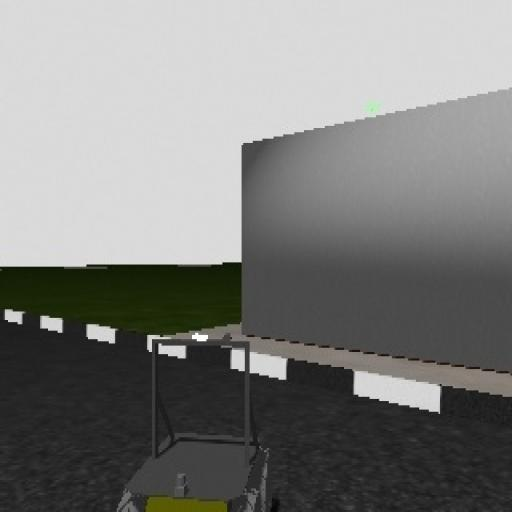huskya200: (115, 326, 277, 512)
